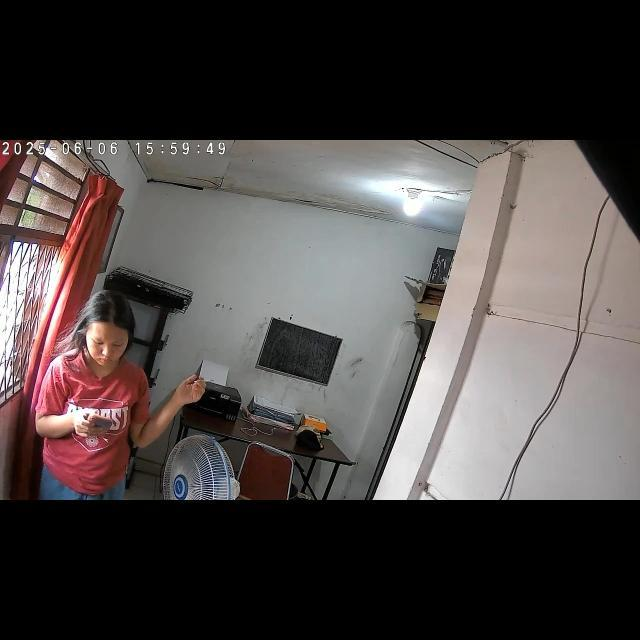rokok: (193, 376, 215, 386)
